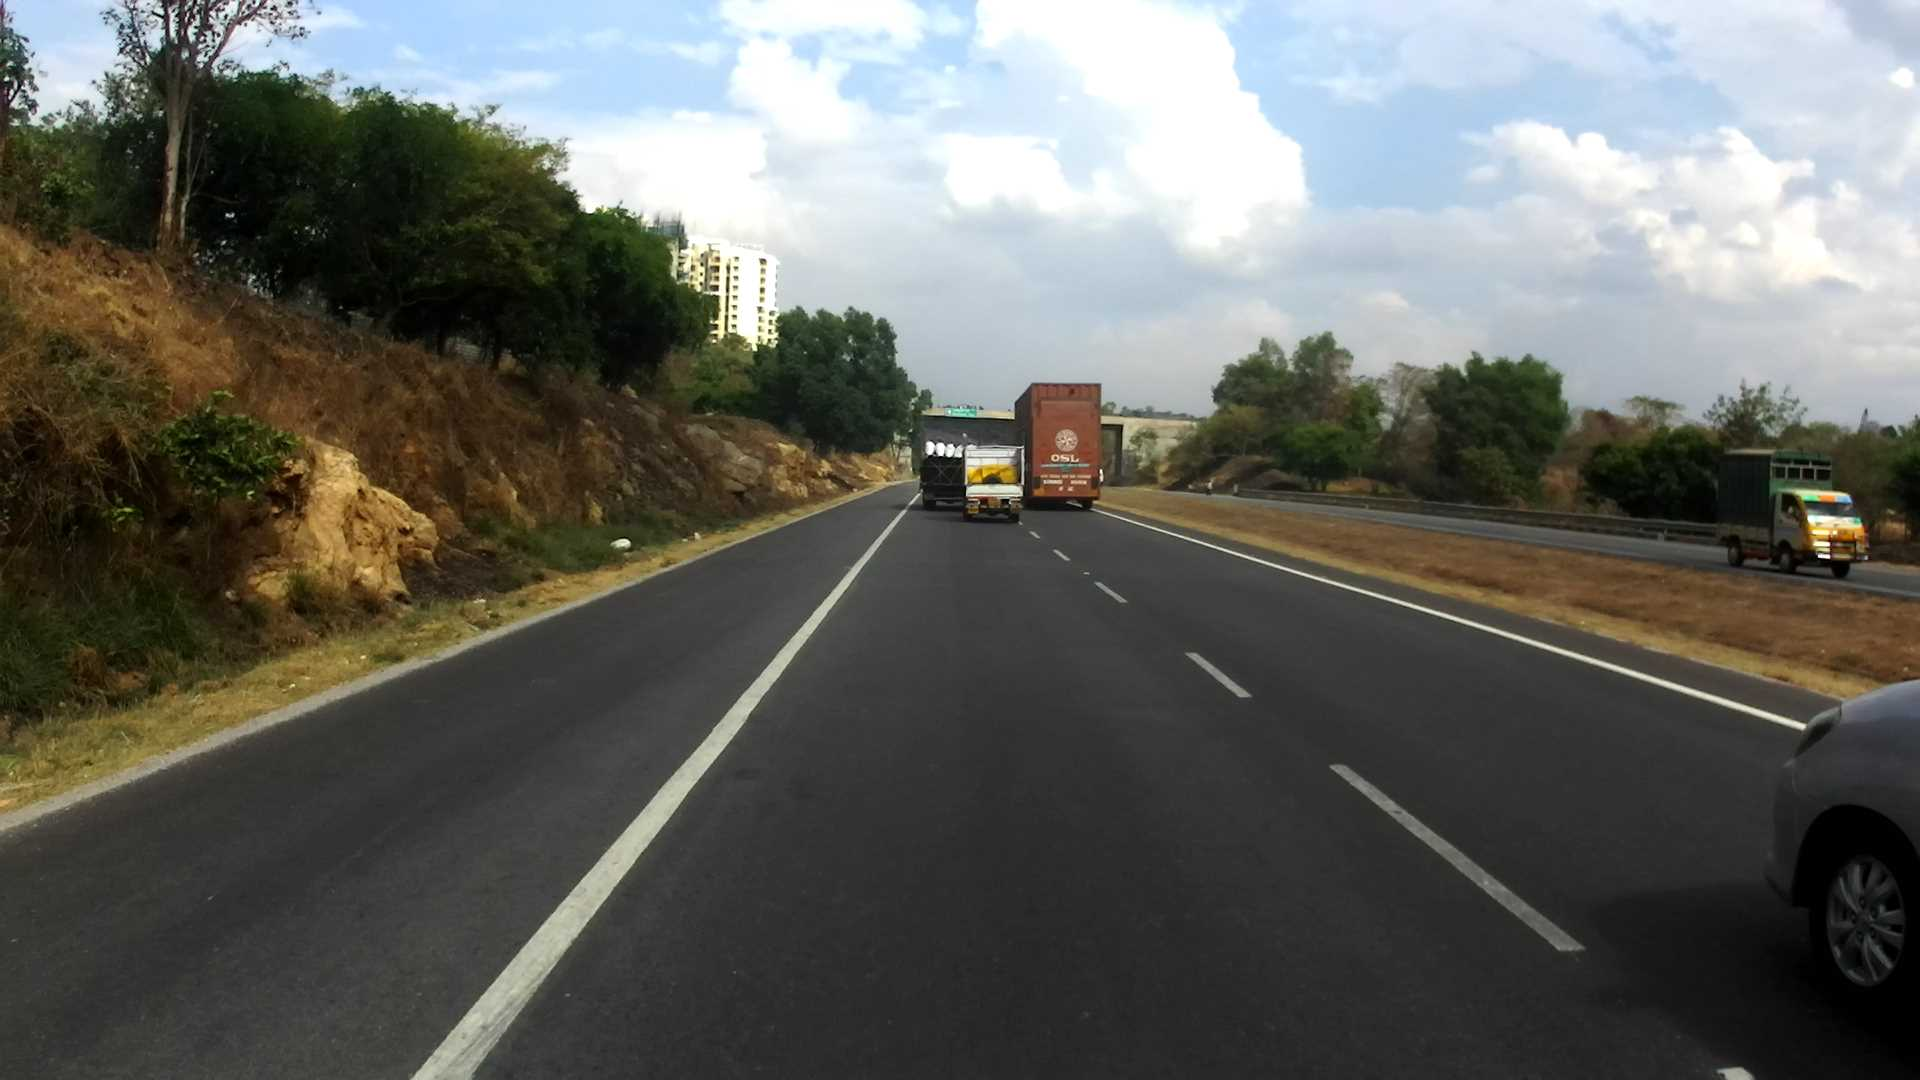car: (1750, 632, 1920, 1019)
truck: (1696, 438, 1902, 592), (1009, 376, 1121, 526), (909, 397, 1027, 509), (957, 436, 1034, 530)
